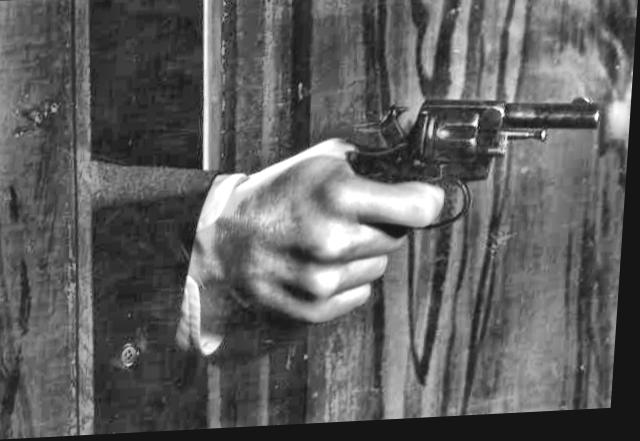pistol: (323, 98, 606, 237)
